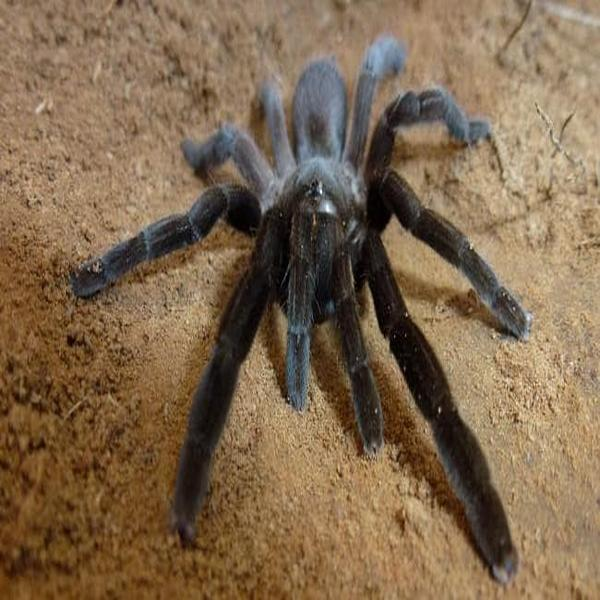Tarantula Spider: (86, 50, 523, 566)
